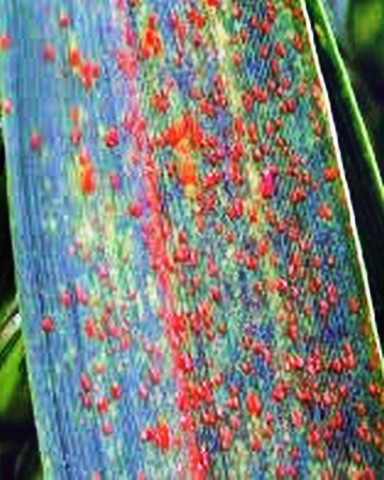Leaf Rust: (34, 44, 378, 468)
